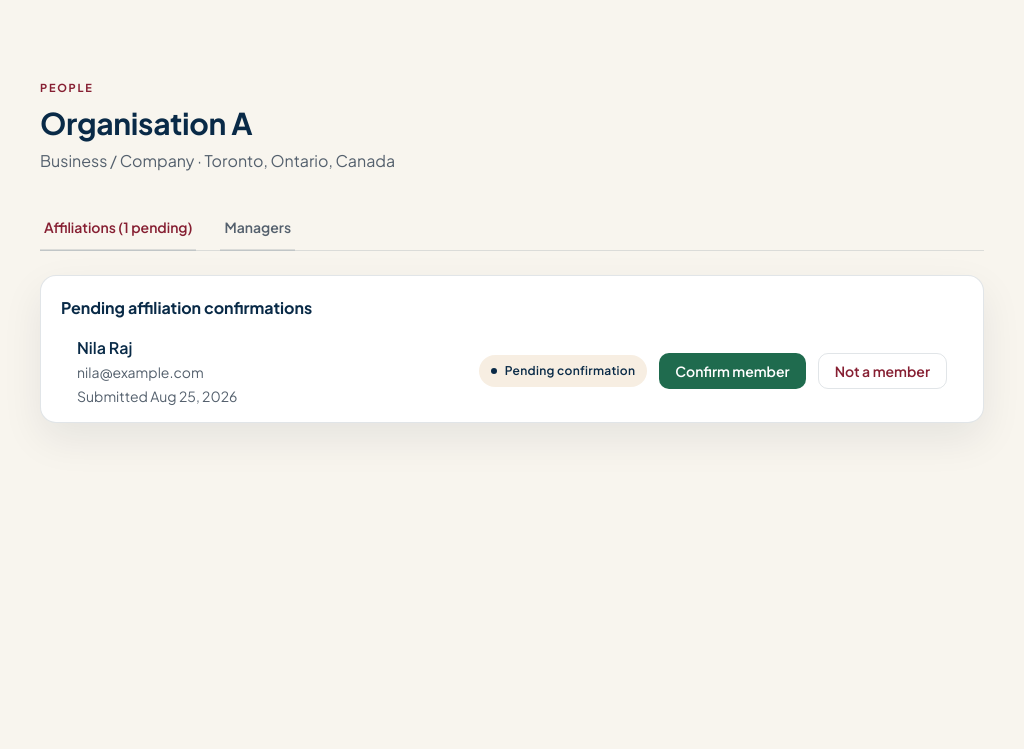
Test: ManagerPeople › separates Members and Managers into distinct tabs, not a mixed table
Expected: the text "Nila Raj" is shown, [77, 336, 132, 358]
Expected: the text "Owner" is not shown
Click the tab "Managers": {"x": 258, "y": 228} [220, 204, 295, 250]
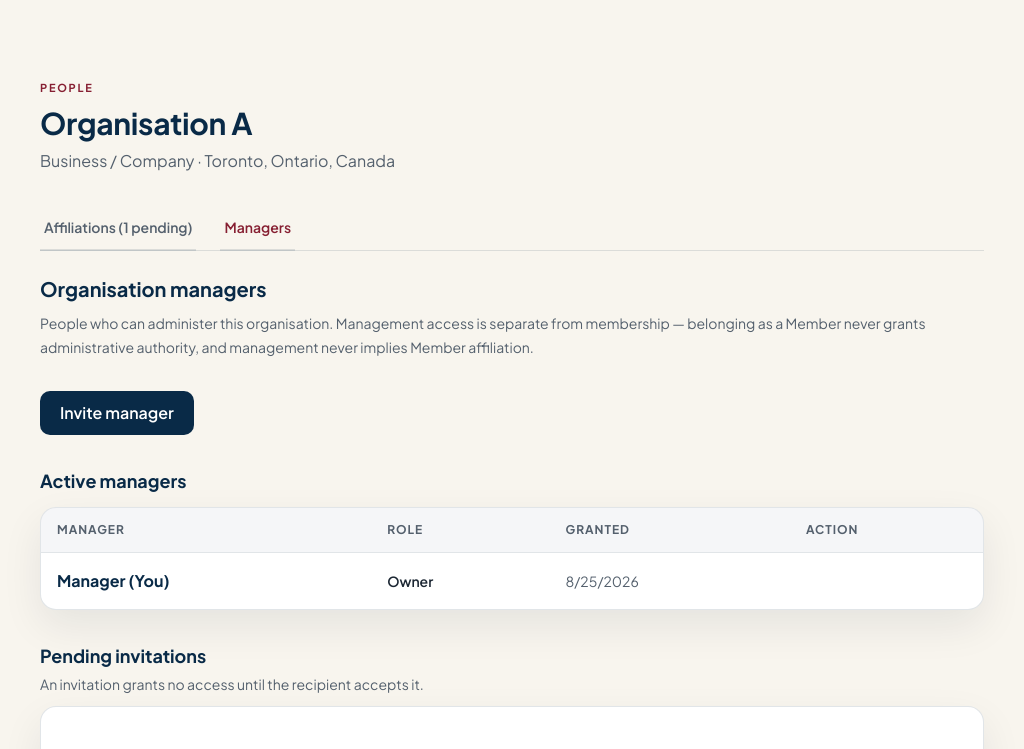
Expected: the text "Owner" is shown, [387, 572, 433, 590]
Expected: the text "Nila Raj" is gone
